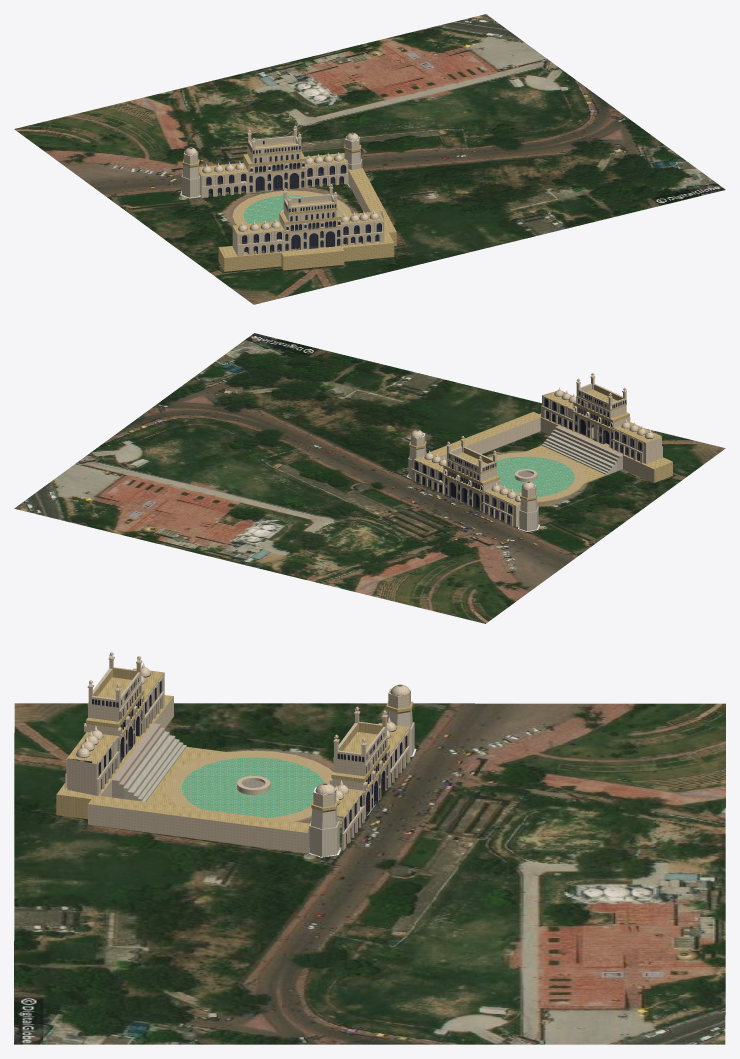
File: bada imambada.fbx
3 views of the same model, one above another, from view 1: azimuth 30°, elevation 25°; view 2: azimuth 150°, elevation 25°; view 3: azimuth 270°, elevation 25° (orthographic). The views are drawn at different scales.
Parts seen in each view (by area): view 1: FbxMesh (×8); view 2: FbxMesh (×10); view 3: FbxMesh (×11).
Boxes of the visible parts, x1,y1,x2,y2 form: FbxMesh (×8): (14, 14, 725, 304); FbxMesh (×10): (14, 333, 725, 623); FbxMesh (×11): (14, 652, 725, 1044).
Bounding box in the file's own units: 294 × 40.47 × 259.
Materials: 11 (10 with a texture image).
